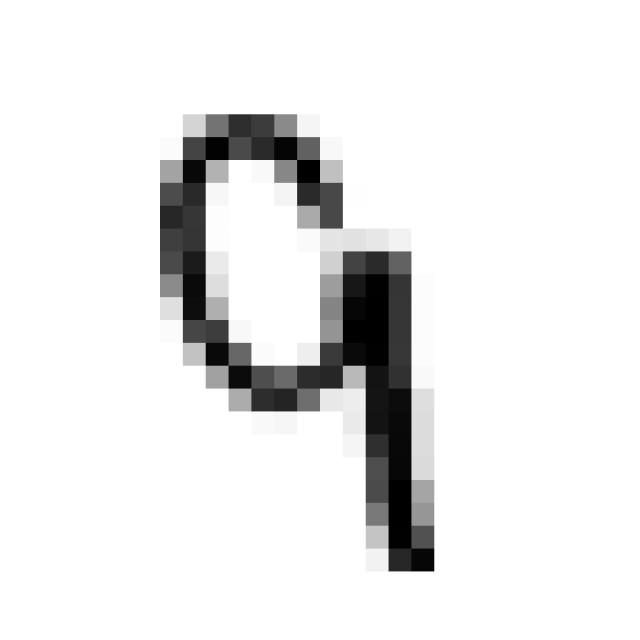9 -nine-: (137, 89, 459, 604)
